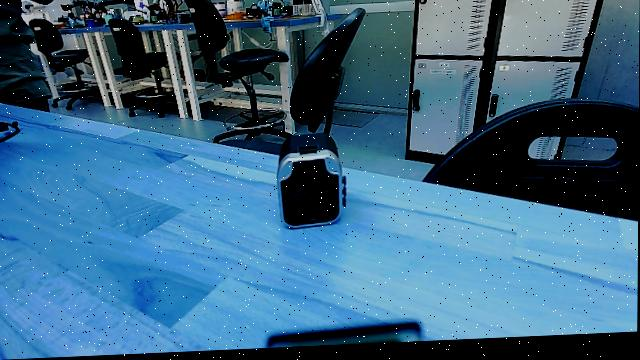adapter: (277, 130, 349, 240)
